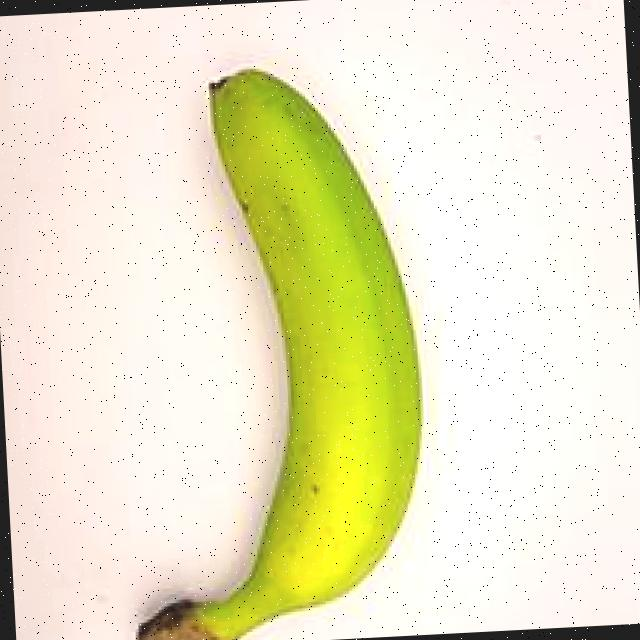Unripe: (81, 38, 468, 640)
